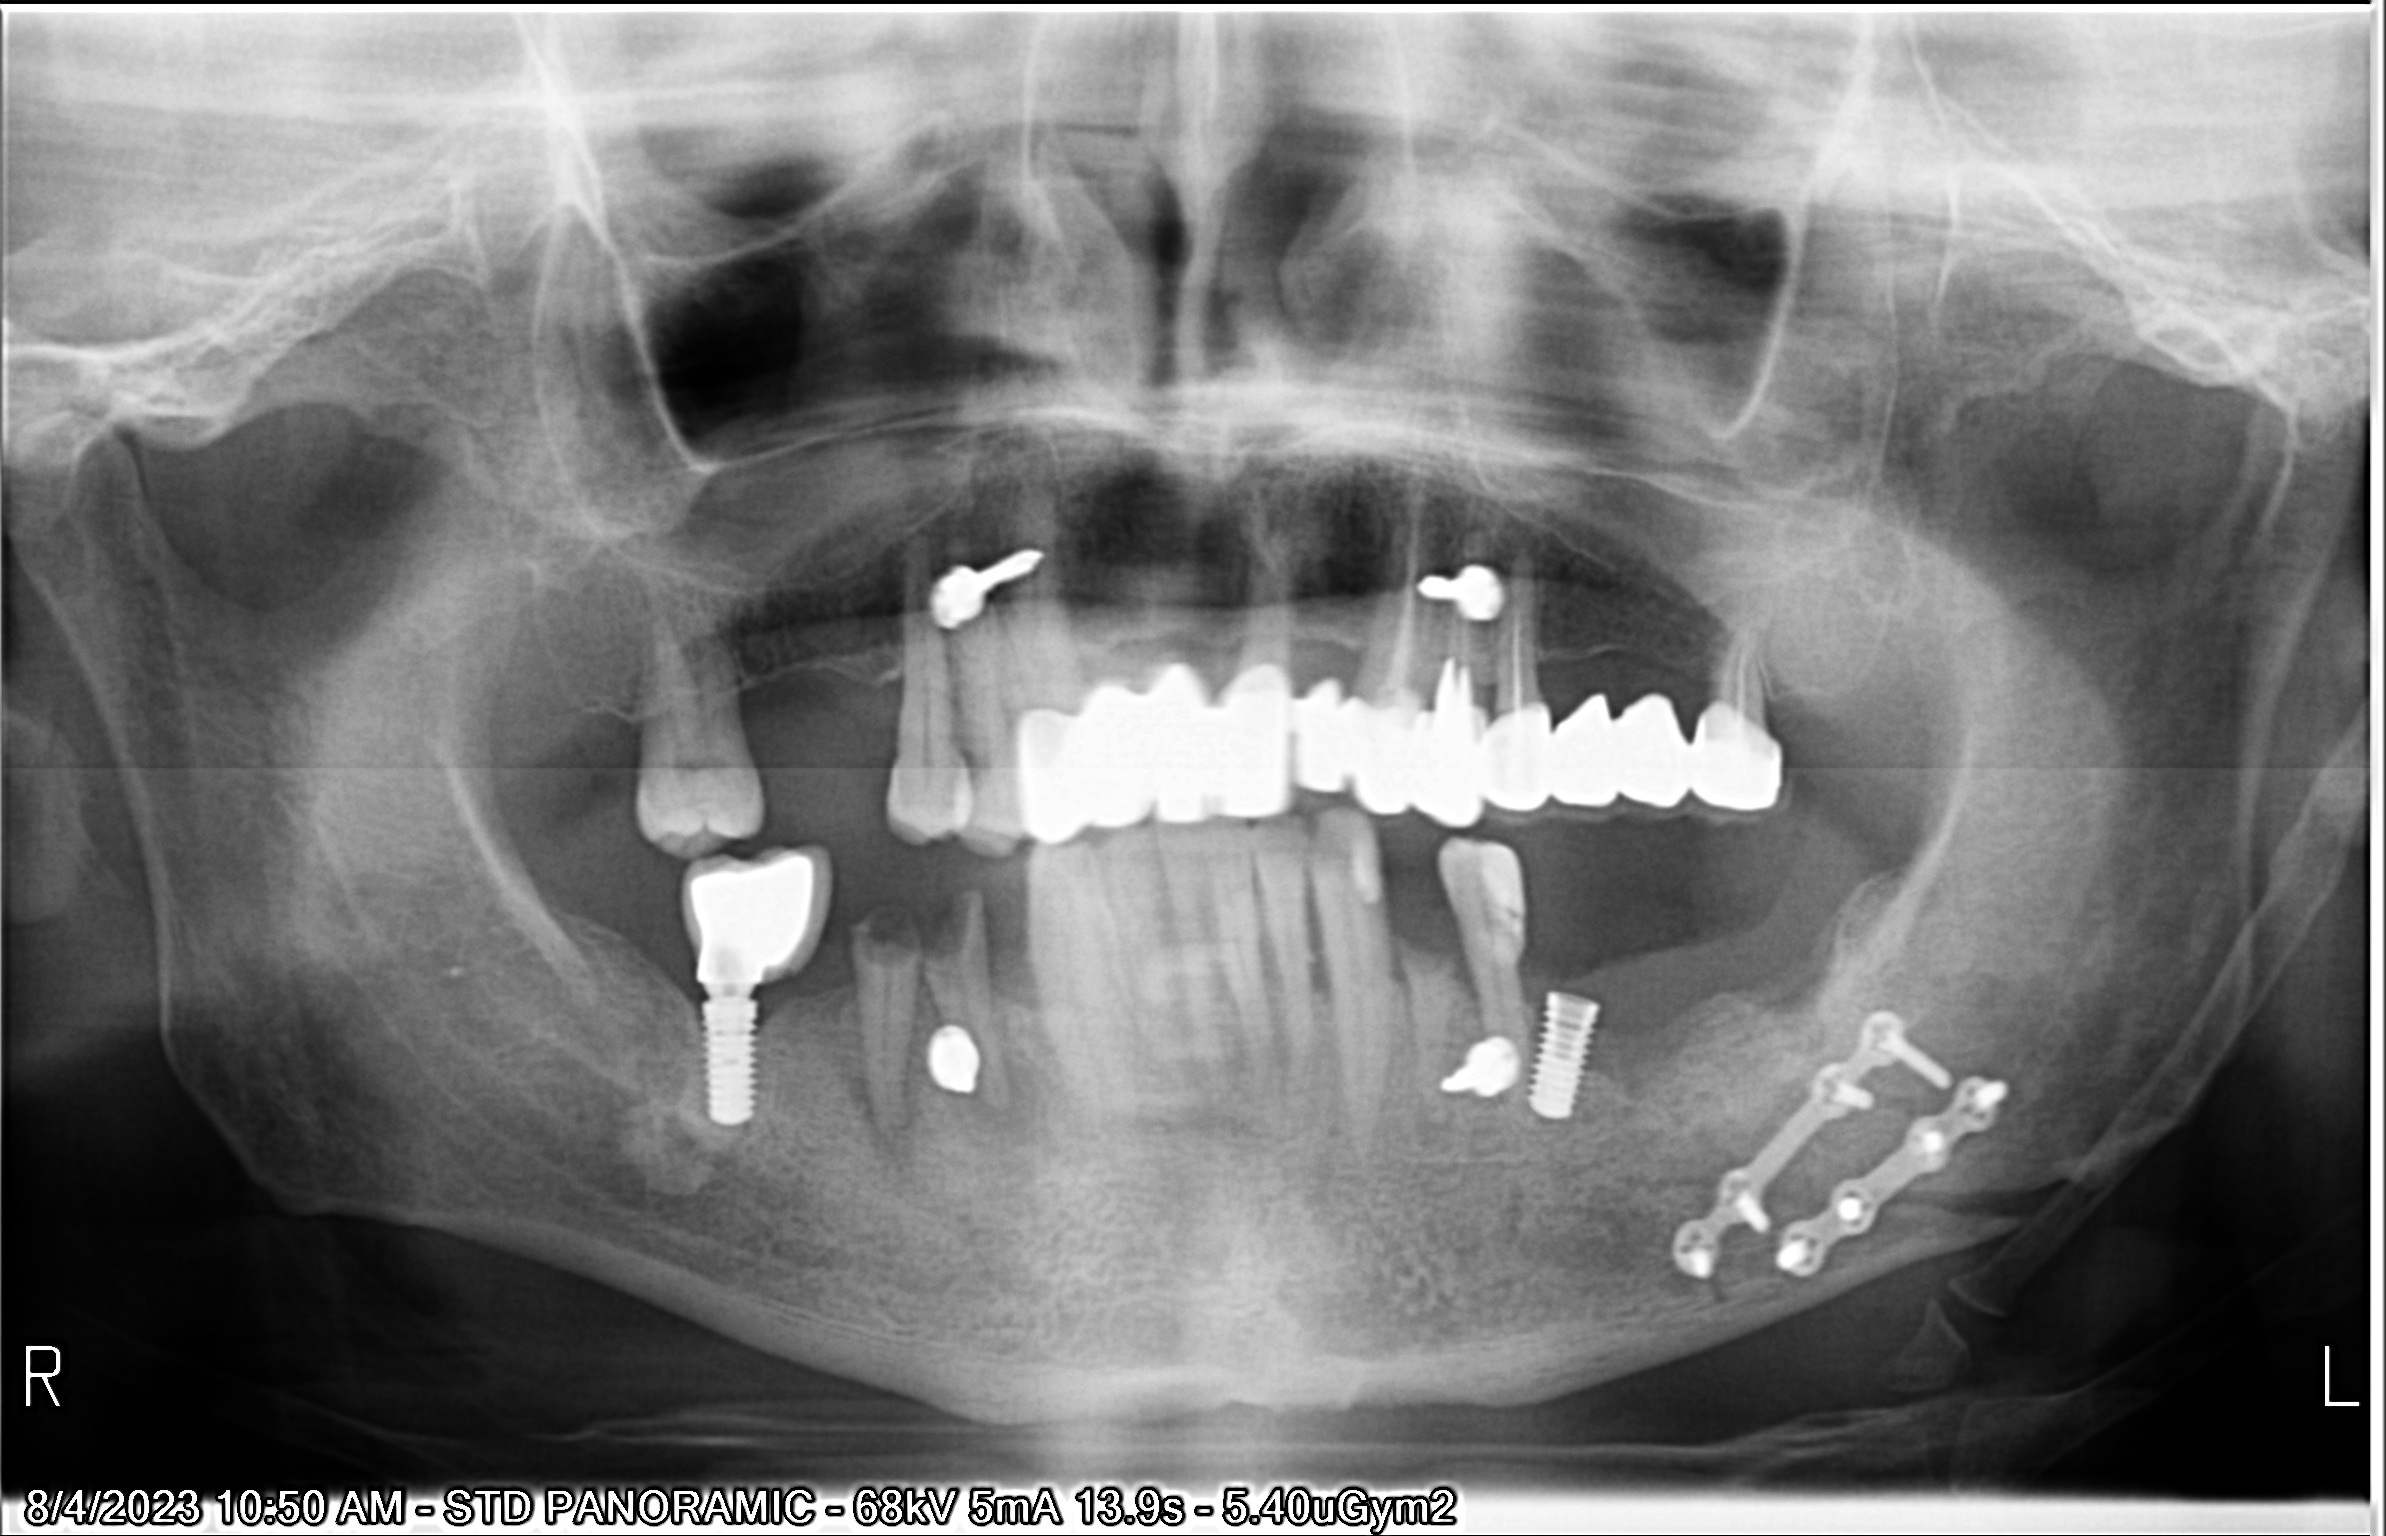API: (847, 1098, 923, 1195), (981, 1077, 1036, 1153), (1403, 1101, 1459, 1174)
BON: (1292, 878, 1323, 997), (1238, 858, 1268, 948), (1758, 663, 1798, 718), (1588, 997, 1610, 1092), (1092, 892, 1116, 978), (948, 663, 967, 748), (756, 988, 791, 1033), (1292, 637, 1318, 694), (1160, 866, 1174, 955), (1525, 983, 1548, 1033), (1463, 934, 1480, 997), (1012, 654, 1024, 725), (1228, 642, 1242, 694), (1200, 870, 1205, 952)
END: (1356, 534, 1412, 658), (1715, 614, 1765, 708), (1454, 522, 1476, 666), (1510, 522, 1527, 705)
IMP: (703, 993, 765, 1167), (1548, 998, 1583, 1152)
OBT: (1492, 840, 1543, 943), (1350, 812, 1386, 920)
ORD: (923, 546, 1059, 619), (906, 1028, 970, 1125), (1386, 572, 1518, 619), (1471, 1032, 1518, 1125)
PRR: (1306, 717, 1765, 831), (1021, 713, 1292, 837), (680, 852, 803, 976)
ROT: (936, 880, 1024, 1113), (850, 894, 920, 1153), (1398, 939, 1456, 1113)
SRD: (1689, 1023, 2012, 1270)
